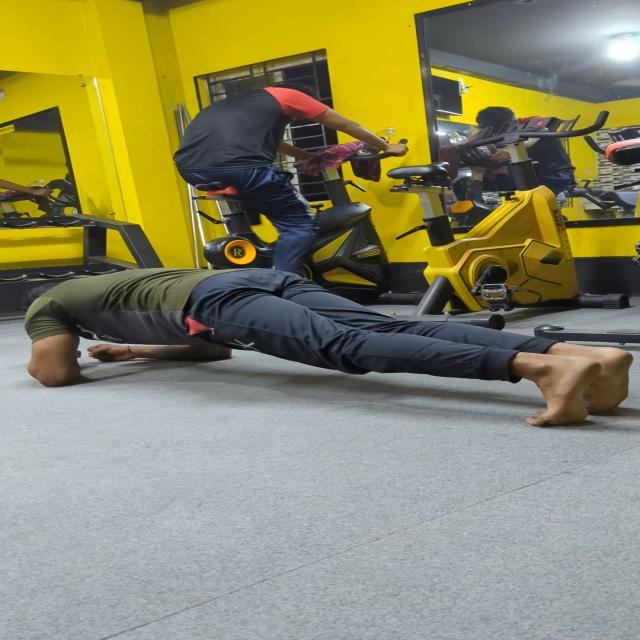Normal_Plunk: (0, 254, 640, 470)
